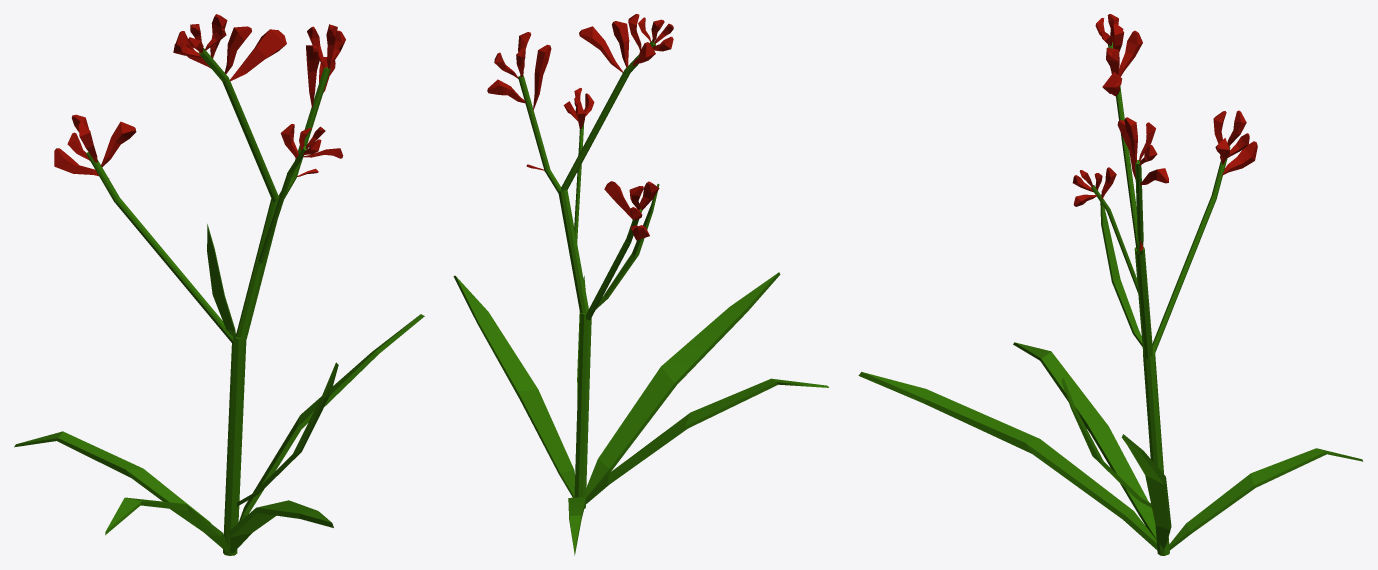
The model's file is Kangaroo_Paw.obj.
The picture shows the model from 3 angles, left to right: view 1: azimuth 30°, elevation 25°; view 2: azimuth 150°, elevation 25°; view 3: azimuth 270°, elevation 25°; orthographic projection. The views are drawn at different scales.
Parts seen in each view (by area): view 1: Kangaroo_Paw; view 2: Kangaroo_Paw; view 3: Kangaroo_Paw.
Boxes of the visible parts, x1=… form: Kangaroo_Paw: x1=14, y1=14, x2=424, y2=555; Kangaroo_Paw: x1=453, y1=14, x2=828, y2=555; Kangaroo_Paw: x1=858, y1=14, x2=1363, y2=555.
Size of the model in its own units: 0.3799 by 0.5444 by 0.4853.
